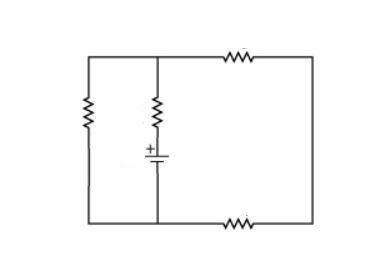resistor: (206, 38, 270, 74), (206, 205, 265, 244), (71, 86, 104, 136), (144, 86, 168, 135)
